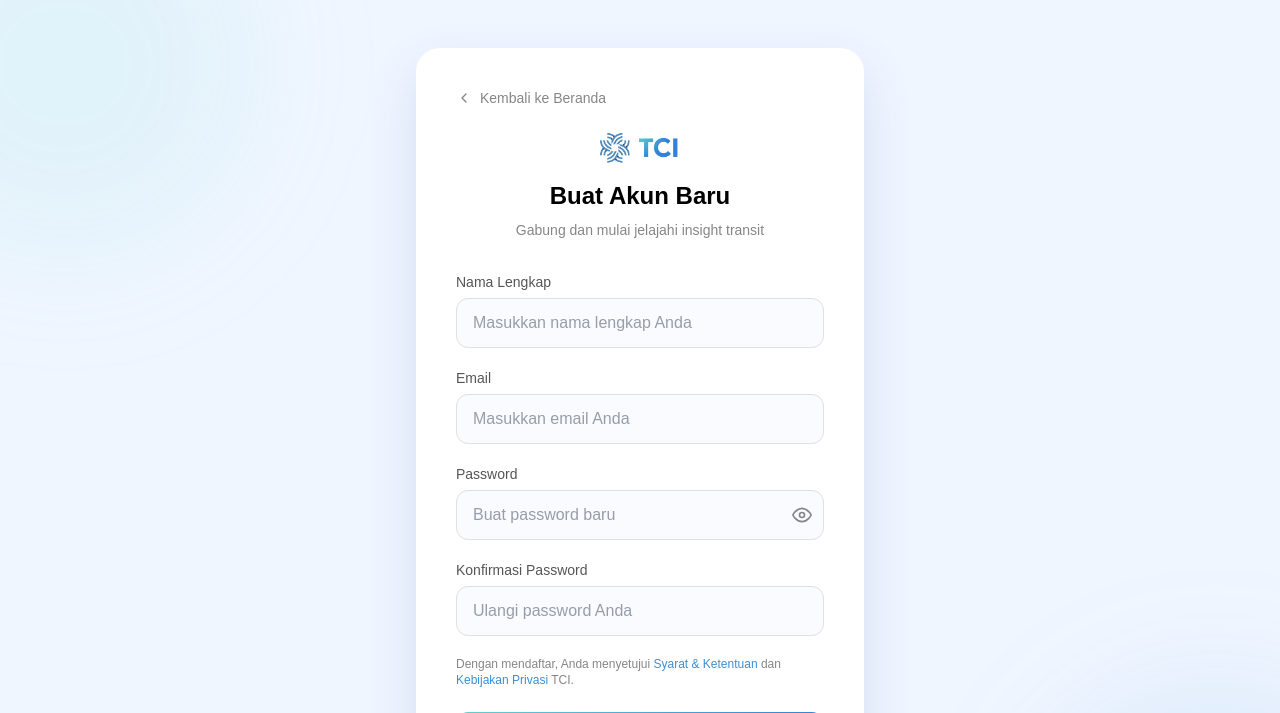
Test: Register Page › disables submit button while loading
The width and height of the screenshot is (1280, 713).
Type "John Doe" into the field labelled "Nama Lengkap".
click(640, 323); type("John Doe")  # box 456,298 -> 824,348
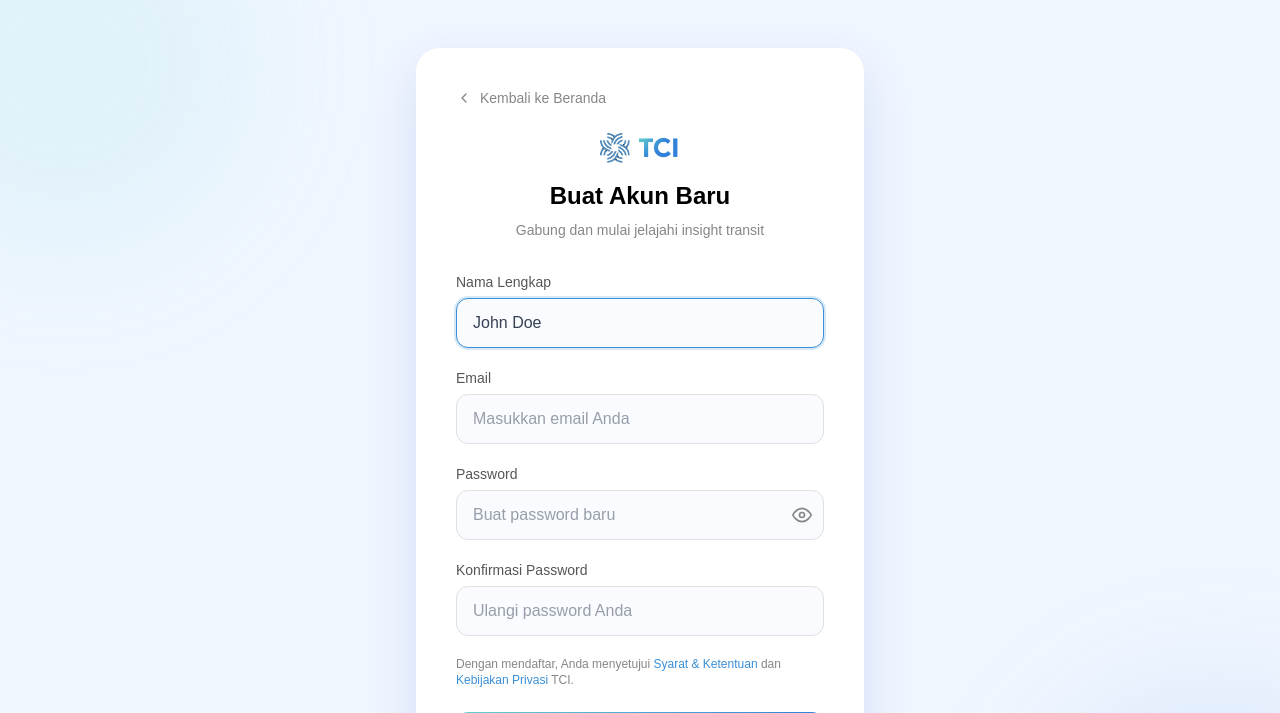
Type "john@example.com" into the field labelled "Email".
click(640, 419); type("john@example.com")  # box 456,394 -> 824,444
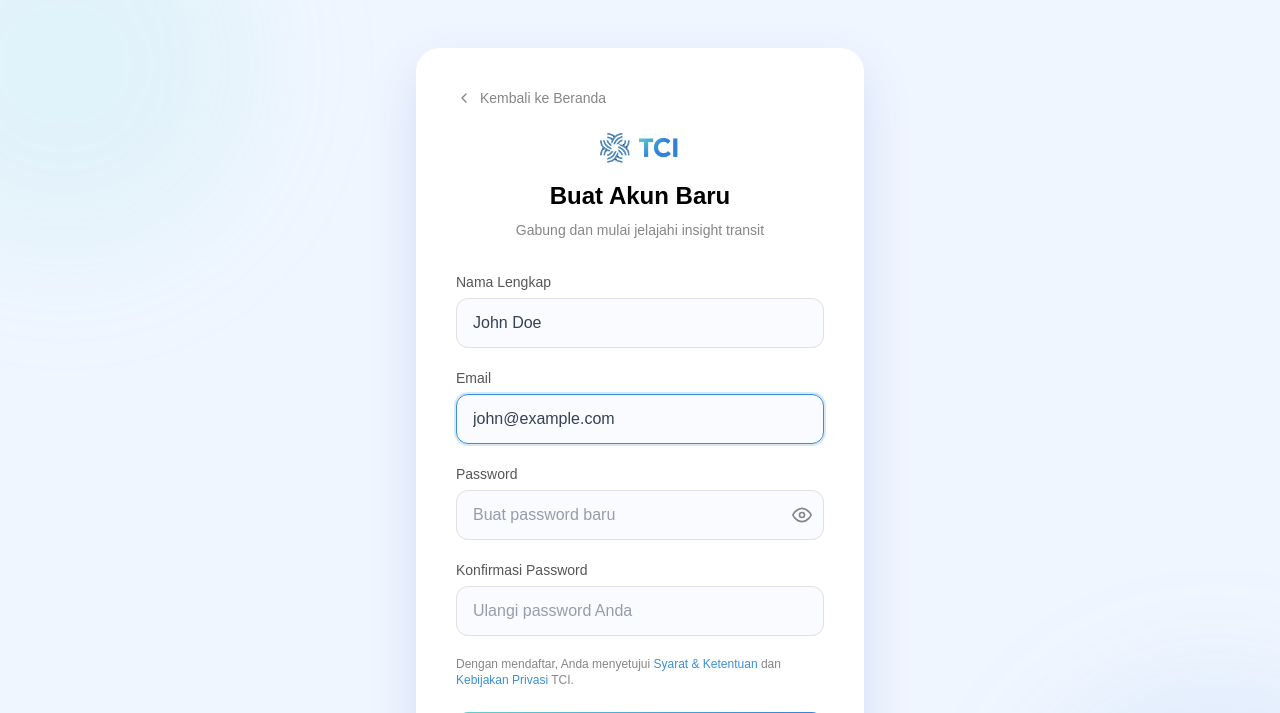
Type "password123" into the password field labelled "Password".
click(640, 515); type("password123")  # box 456,490 -> 824,540
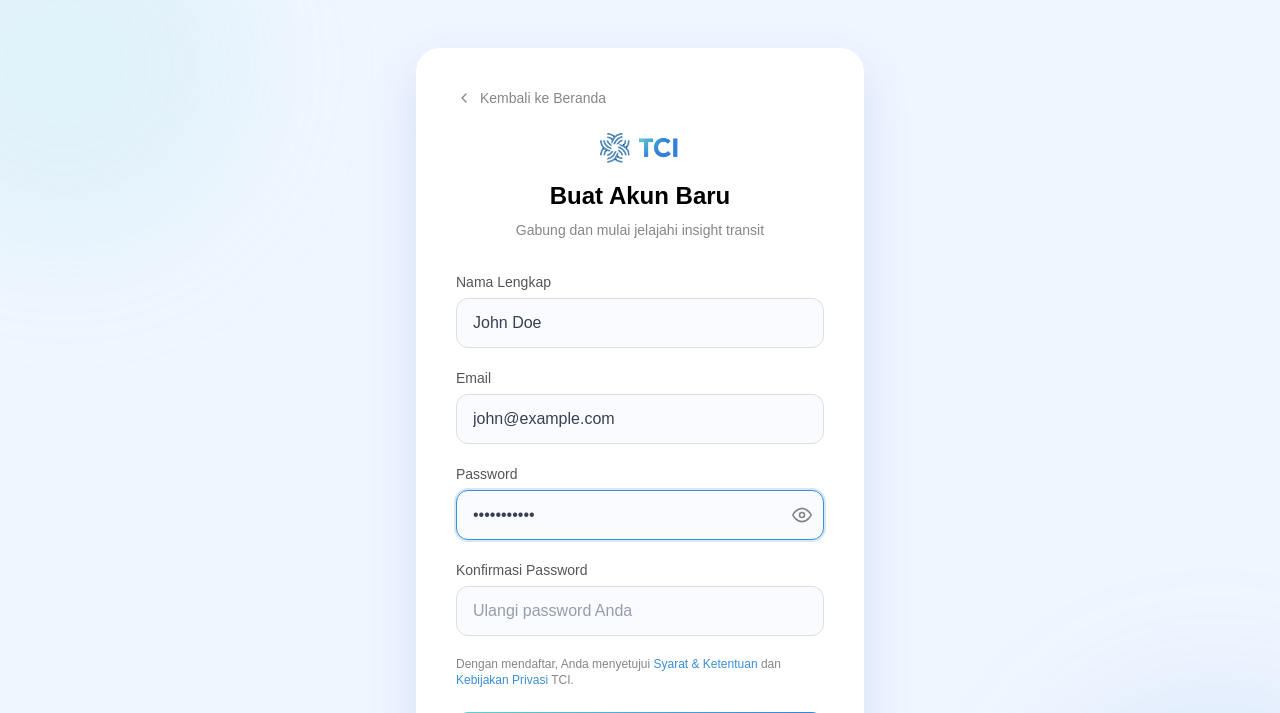
Type "password123" into the password field labelled "Konfirmasi Password".
click(640, 611); type("password123")  # box 456,586 -> 824,636
(page scrolled)
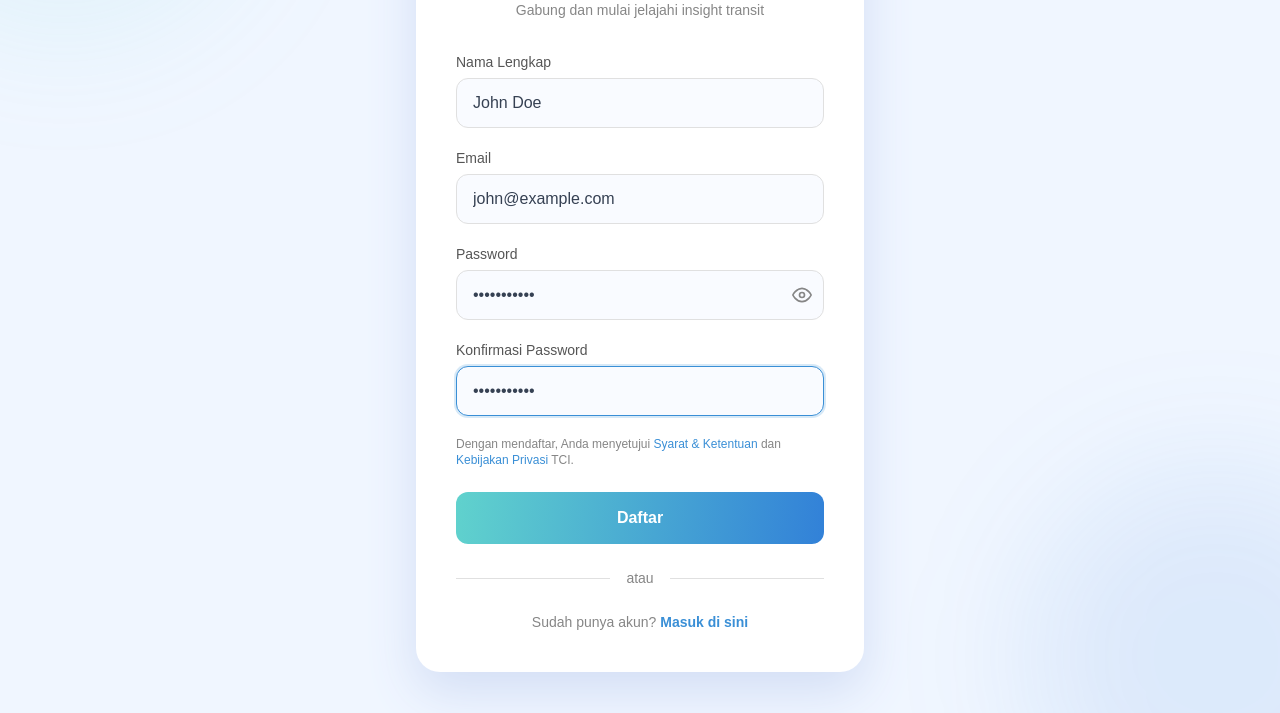
Click the button "Daftar".
click(640, 518)  # box 456,492 -> 824,544
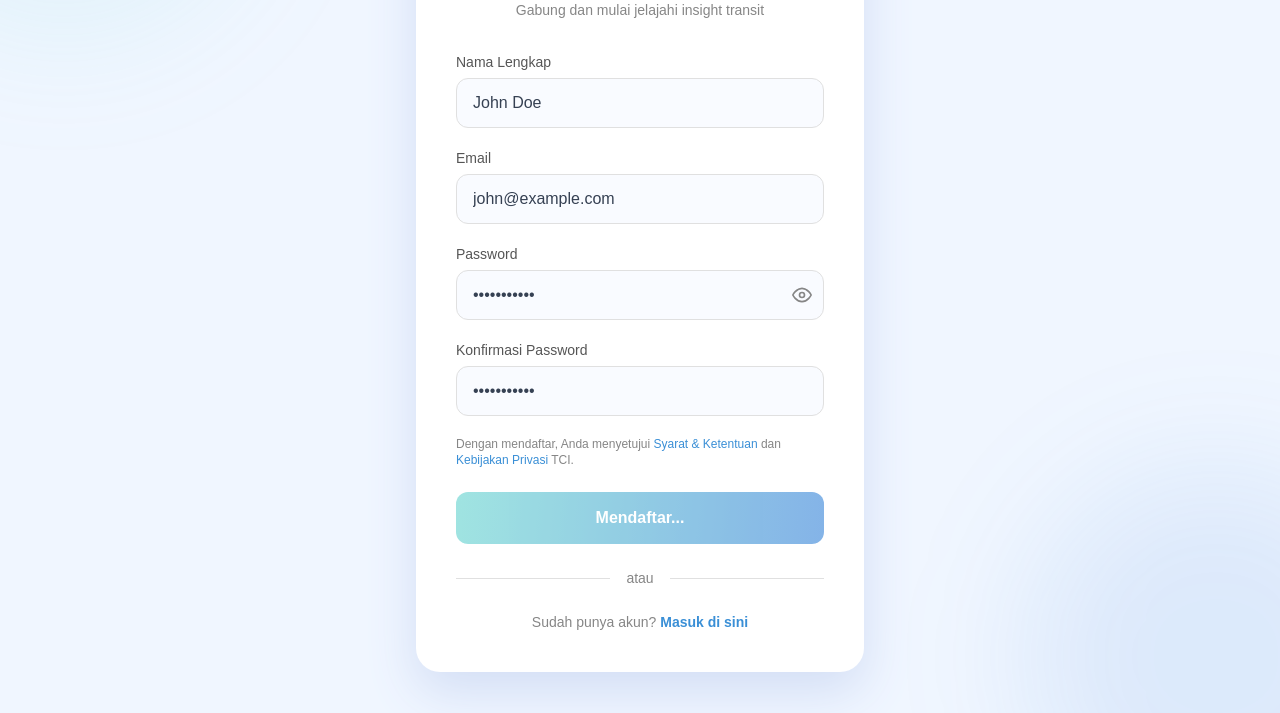
Expected: the button "Mendaftar..." is disabled, 456,492 -> 824,544
